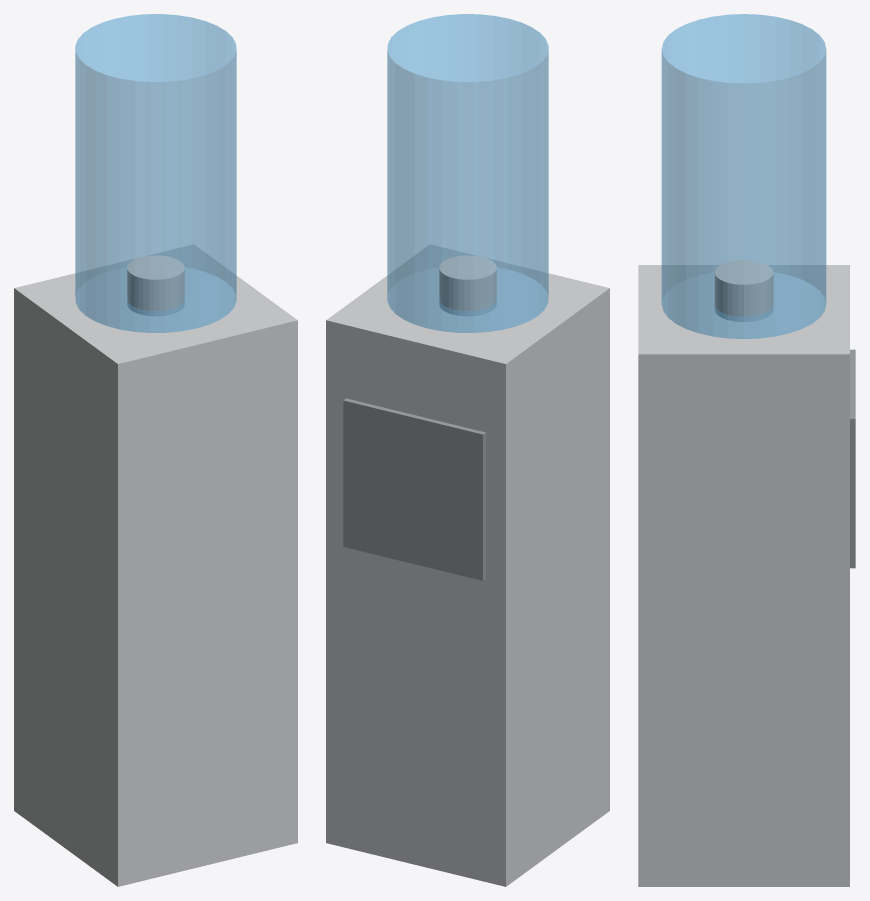
The model's file is canteen_water_dispenser.glb.
3 views of the same model, side by side, from view 1: azimuth 30°, elevation 25°; view 2: azimuth 150°, elevation 25°; view 3: azimuth 270°, elevation 25° (orthographic).
Parts seen in each view (by area): view 1: Cube, Cylinder.002, Cylinder.003; view 2: Cube, Cylinder.002, Cube.001, Cylinder.003; view 3: Cube, Cylinder.002, Cylinder.003, Cube.001.
Boxes of the visible parts, bbox=[...] form: Cube: bbox=[14, 244, 297, 886]; Cylinder.002: bbox=[75, 14, 236, 332]; Cylinder.003: bbox=[127, 255, 184, 315]; Cube: bbox=[326, 244, 609, 886]; Cylinder.002: bbox=[387, 14, 548, 332]; Cube.001: bbox=[343, 398, 485, 580]; Cylinder.003: bbox=[439, 255, 496, 315]; Cube: bbox=[638, 265, 849, 886]; Cylinder.002: bbox=[661, 14, 826, 338]; Cylinder.003: bbox=[714, 260, 773, 321]; Cube.001: bbox=[850, 349, 855, 568].
Size of the model in its own units: 0.36 by 1.49 by 0.37.
